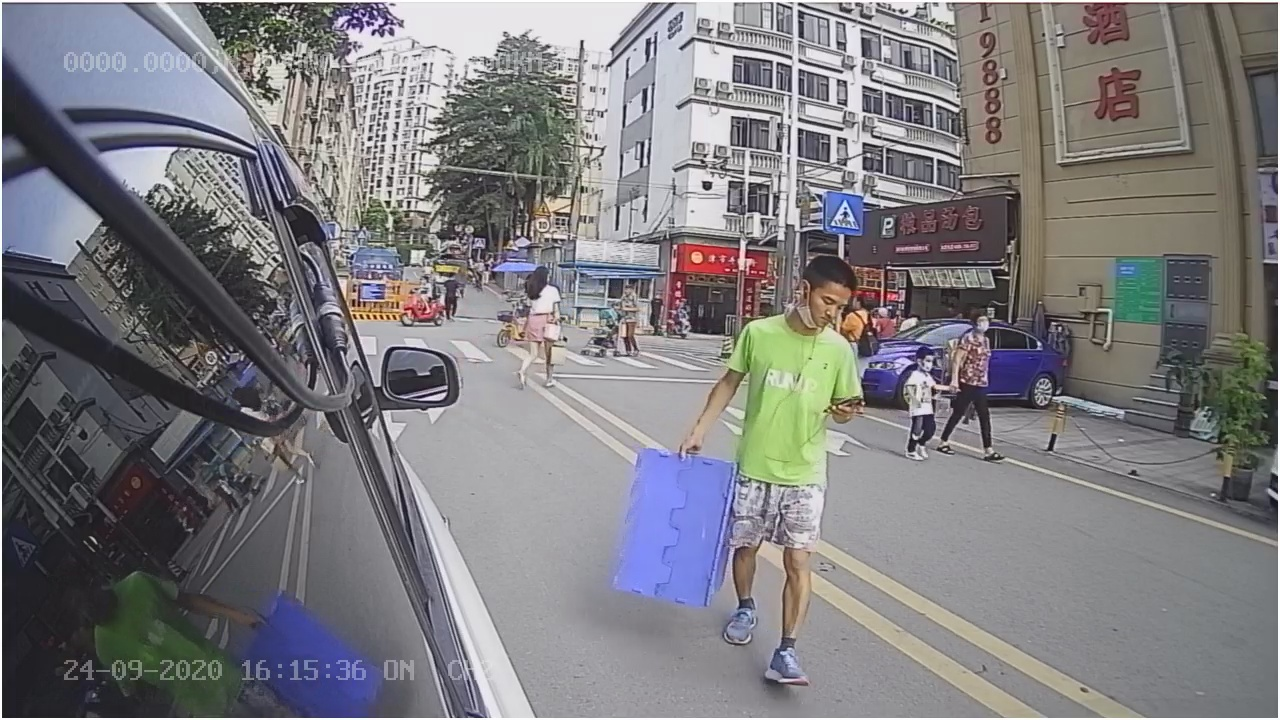person: (662, 252, 884, 695)
